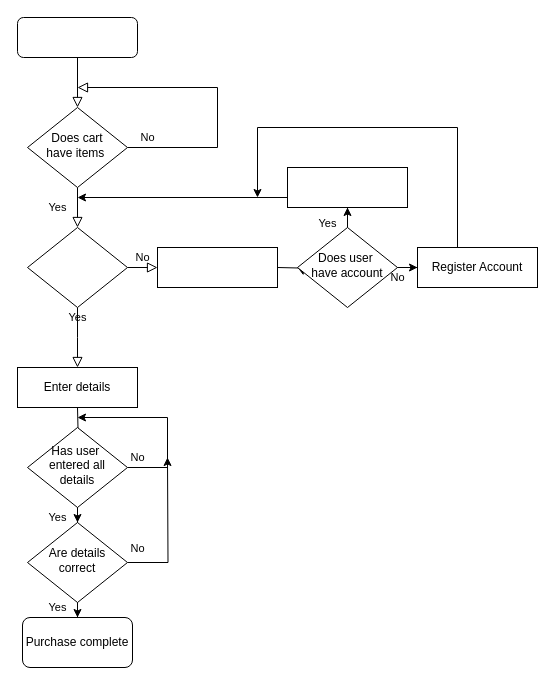
Image size: 555x685. Some labels were removed from this diagram. The centre of each missing label's shape, as x and y in pixels:
Checkout: point (77, 37)
Is user logged in: point (77, 267)
Log into account: point (347, 187)
Login Page: point (217, 267)
